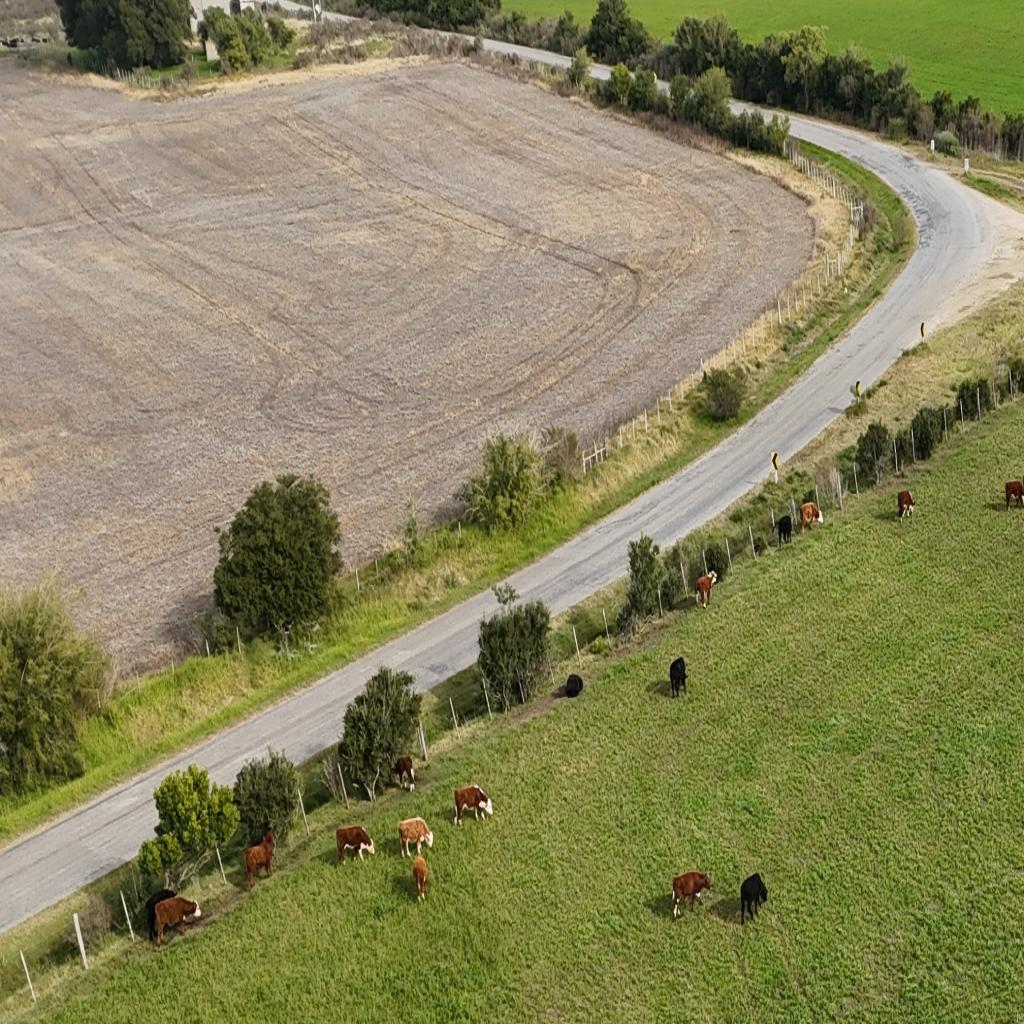cow: (394, 755, 415, 792)
